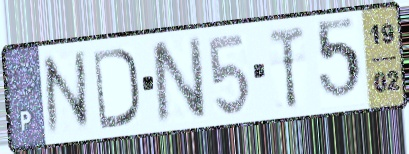5: (313, 15, 365, 108), (205, 30, 254, 117)
D: (90, 44, 141, 132)
N: (147, 32, 209, 129), (38, 46, 95, 140)
T: (266, 22, 307, 112)
